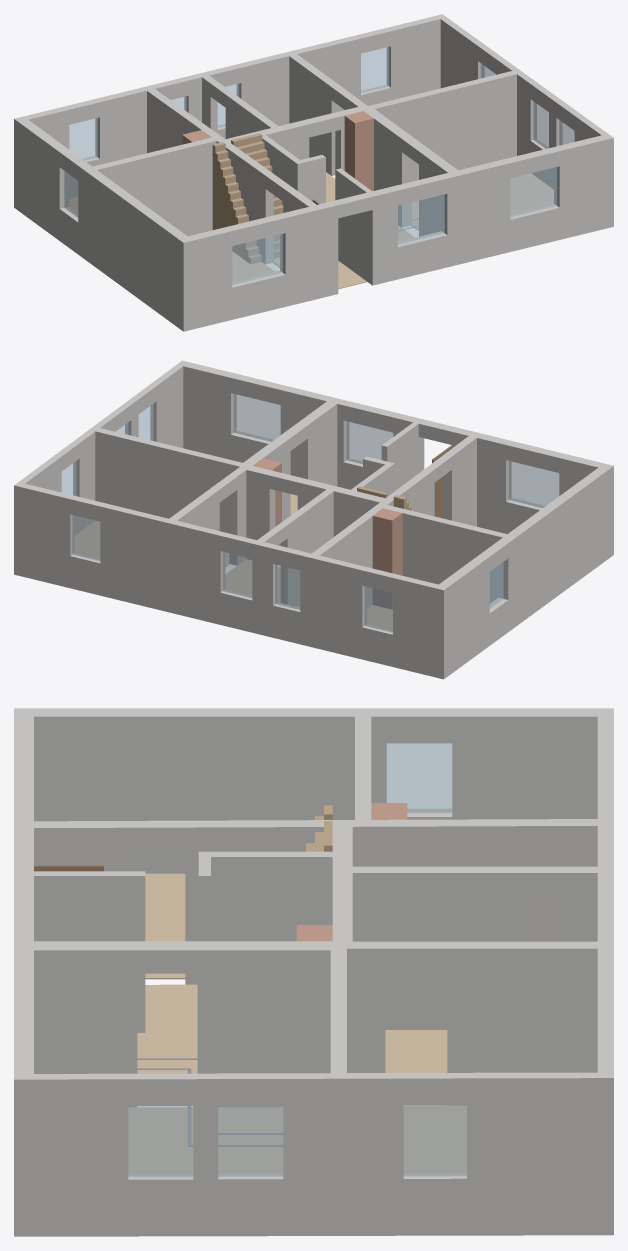
3 views of the same model, one above another, from view 1: azimuth 30°, elevation 25°; view 2: azimuth 150°, elevation 25°; view 3: azimuth 270°, elevation 25° (orthographic). The views are drawn at different scales.
Visible parts, largest first — view 1: Waende, Fenster, Treppe, Boden, Schornsteine; view 2: Waende, Fenster, Schornsteine, Boden, Haustuer; view 3: Waende, Boden, Fenster, Schornsteine, Treppe.
Boxes of the visible parts, x1=… form: Waende: x1=14, y1=14, x2=613, y2=331; Fenster: x1=64, y1=47, x2=574, y2=284; Treppe: x1=212, y1=133, x2=283, y2=263; Boden: x1=69, y1=172, x2=553, y2=289; Schornsteine: x1=182, y1=111, x2=373, y2=191; Waende: x1=14, y1=360, x2=613, y2=679; Fenster: x1=61, y1=394, x2=559, y2=632; Schornsteine: x1=253, y1=458, x2=402, y2=609; Boden: x1=75, y1=494, x2=392, y2=629; Haustuer: x1=432, y1=445, x2=453, y2=518; Waende: x1=14, y1=708, x2=613, y2=1236; Boden: x1=128, y1=873, x2=466, y2=1173; Fenster: x1=128, y1=743, x2=466, y2=1176; Schornsteine: x1=296, y1=803, x2=407, y2=941; Treppe: x1=306, y1=805, x2=332, y2=851.
Bounding box in the file's own units: 11.91 × 2.46 × 8.13.
